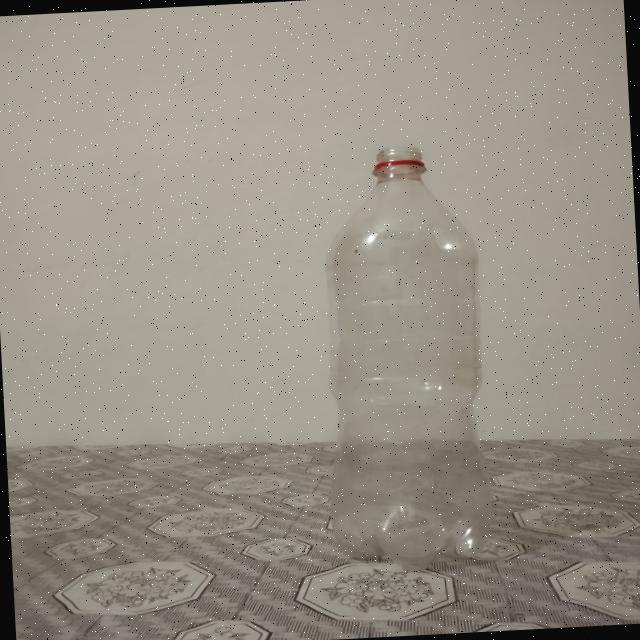bottle: (318, 148, 496, 577)
